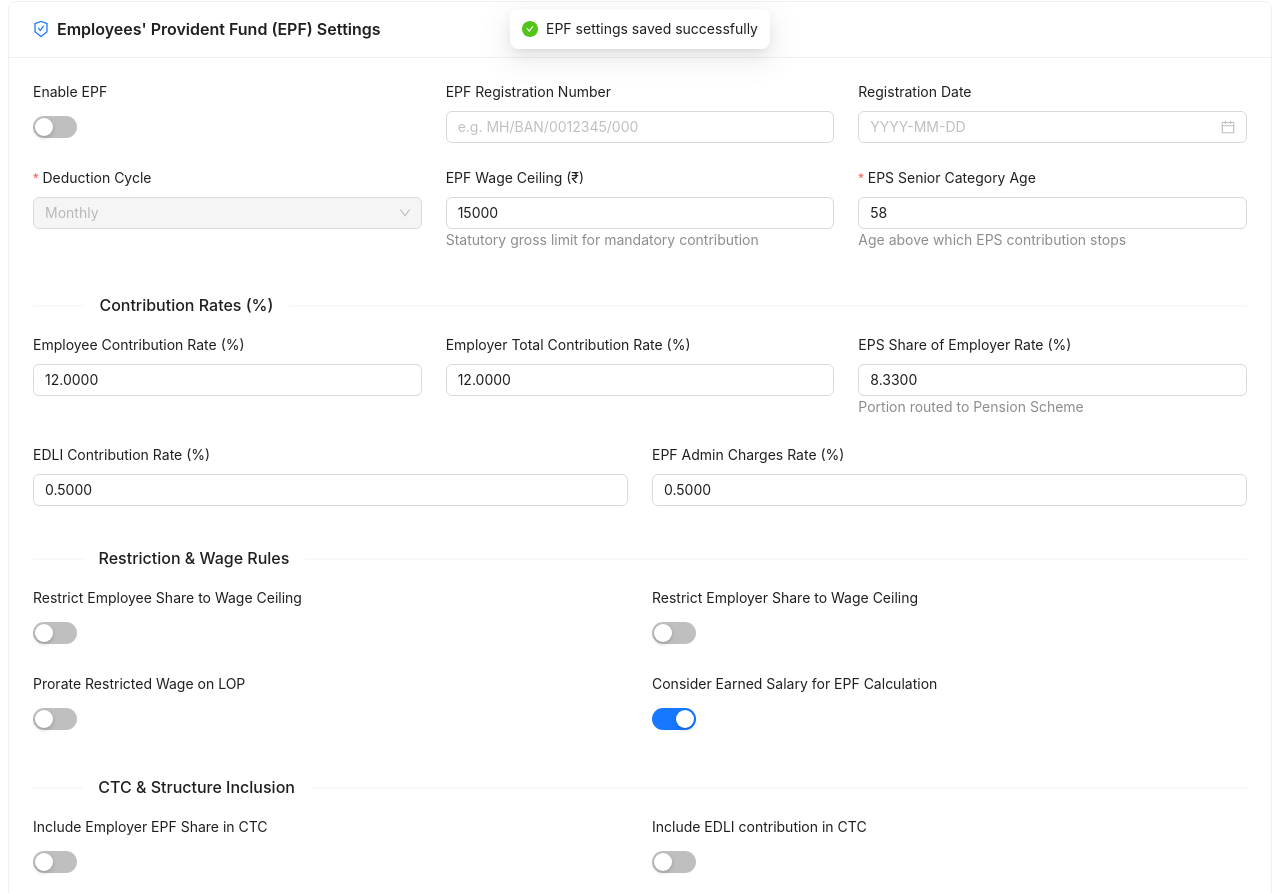
Test: EpfScreen (W-47.1b §7) › blocks rate with more than 4 decimal places such as 12.00001
This screenshot has width=1280, height=893.
Replace the text in the field with test id "epf-employee-rate-input" with "12.00001": (227, 380) [33, 364, 422, 396]
(page scrolled)
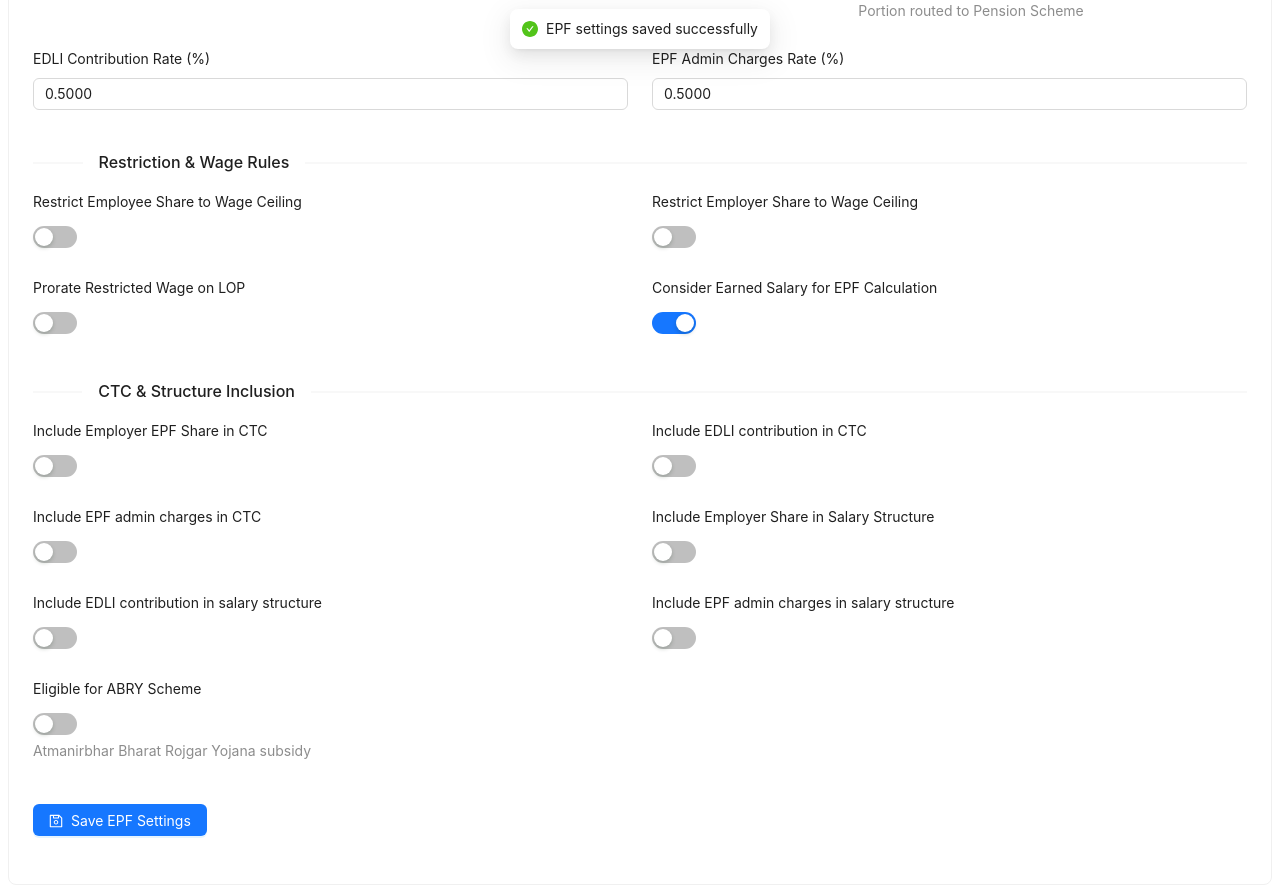
Click the button with test id "save-epf-button": (120, 820) [33, 804, 207, 836]
(page scrolled)
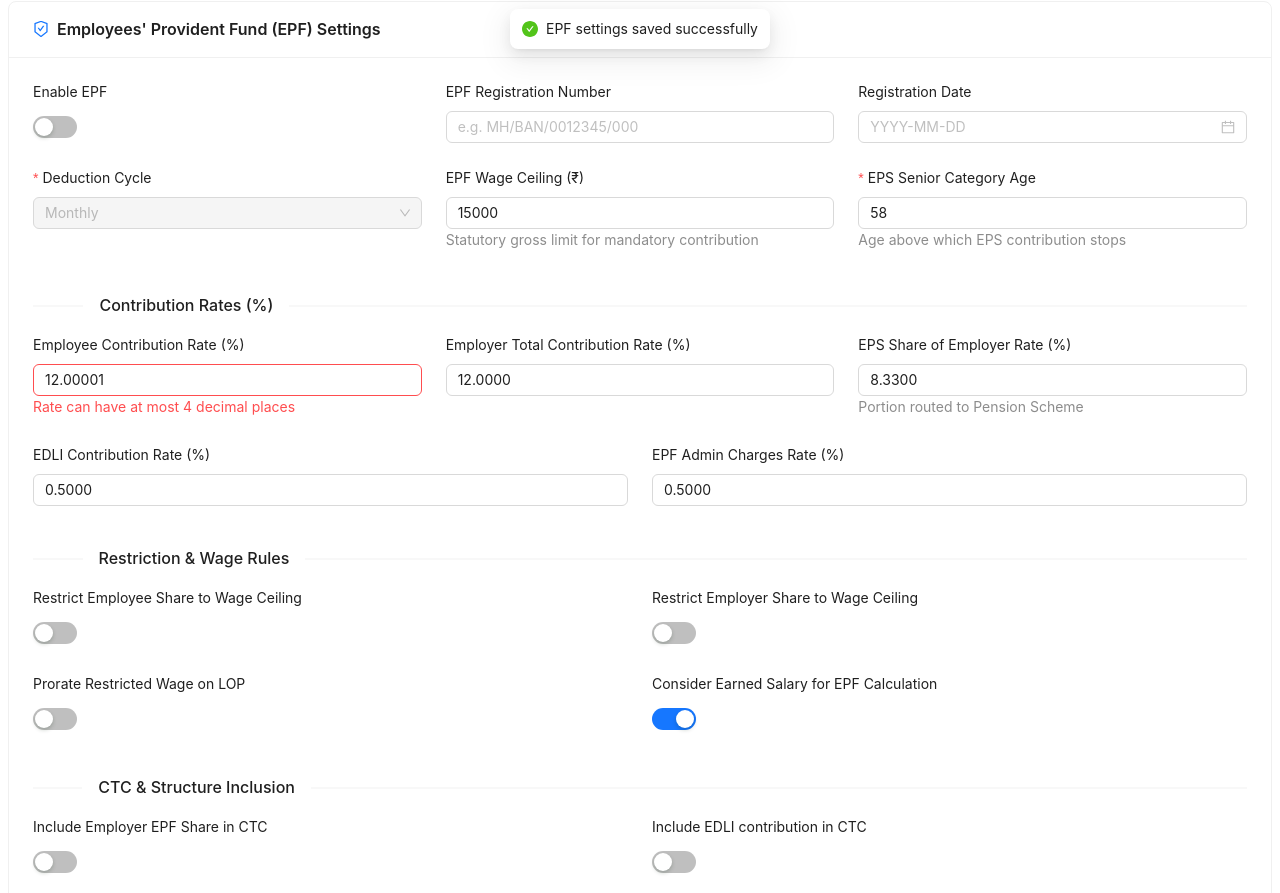
Result: the text "Rate can have at most 4 decimal places" is shown at [33, 398, 295, 415]
